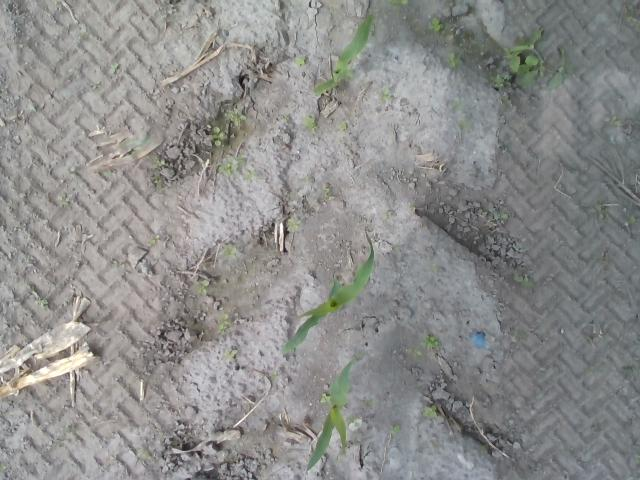Maize: (280, 229, 378, 356), (306, 358, 354, 472), (314, 12, 374, 98)
Weeds: (502, 27, 575, 94), (146, 156, 170, 192), (218, 158, 254, 181), (222, 110, 246, 128), (208, 127, 228, 146), (512, 274, 535, 288), (594, 200, 608, 222), (376, 87, 393, 103), (444, 54, 461, 70), (222, 243, 240, 258), (422, 335, 441, 348), (304, 114, 318, 130), (196, 280, 210, 296), (33, 295, 49, 309), (606, 114, 624, 126), (491, 74, 506, 88), (494, 209, 508, 223), (216, 320, 230, 334), (406, 346, 422, 358), (222, 348, 238, 360), (423, 404, 439, 416), (429, 20, 444, 32), (287, 218, 302, 230), (322, 182, 332, 200), (292, 53, 305, 65), (388, 422, 400, 434), (388, 0, 408, 7), (319, 392, 330, 404), (338, 120, 349, 132), (152, 235, 160, 243)
